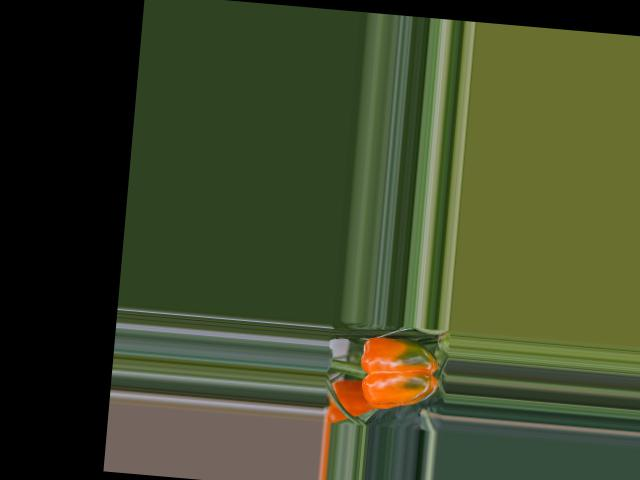bell_pepper: (348, 325, 448, 417)
